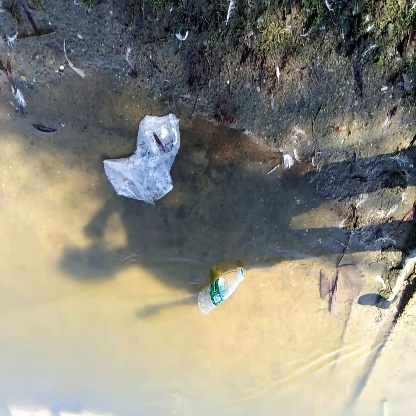bottle: (194, 257, 250, 322)
plastic-bag: (101, 107, 189, 216)
